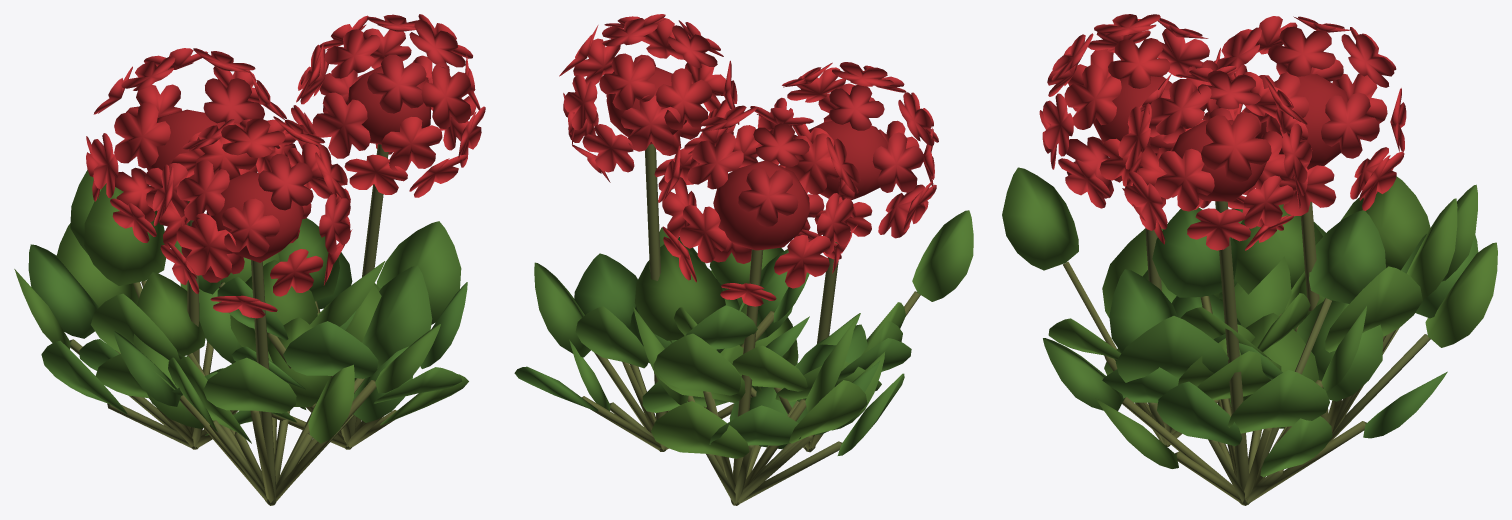
The model's file is potfill_geranium.glb.
3 renders of one model, left to right at view 1: azimuth 30°, elevation 25°; view 2: azimuth 150°, elevation 25°; view 3: azimuth 270°, elevation 25°, orthographic. The views are drawn at different scales.
Parts seen in each view (by area): view 1: Sammel Pflanze, Sammel Putz; view 2: Sammel Pflanze, Sammel Putz; view 3: Sammel Pflanze, Sammel Putz.
Part boxes in pixels (box(x1,y1,x2,y2)): Sammel Pflanze: box(14, 14, 485, 443); Sammel Putz: box(70, 144, 396, 505); Sammel Pflanze: box(514, 14, 973, 458); Sammel Putz: box(582, 144, 920, 505); Sammel Pflanze: box(1002, 14, 1497, 477); Sammel Putz: box(1063, 201, 1430, 505).
Bounding box in the file's own units: 0.3509 × 0.374 × 0.3787.
